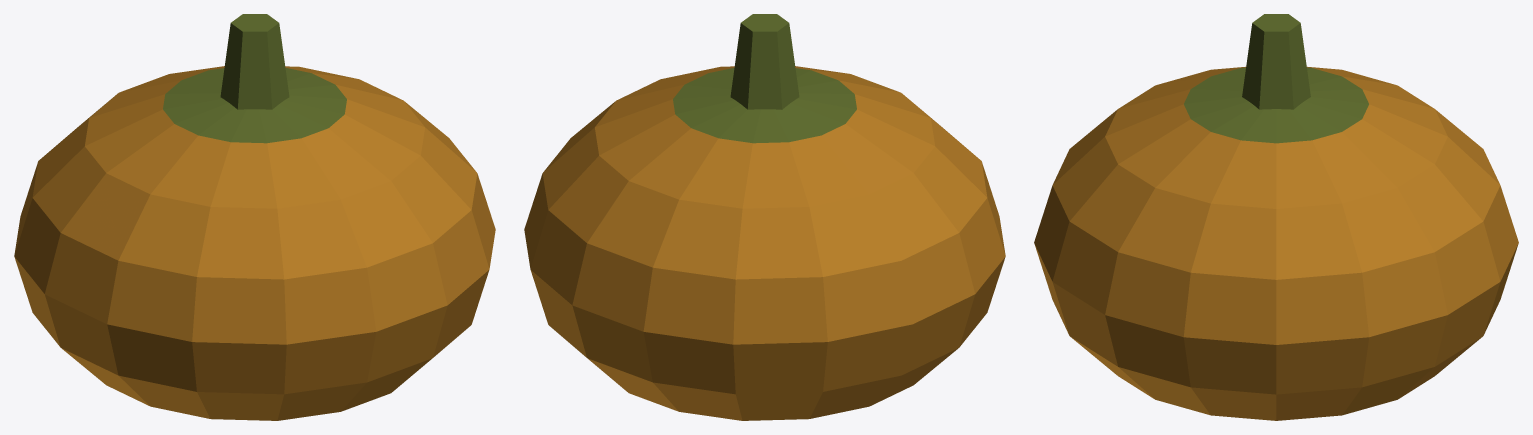
Rendered from calabaza.obj.
The picture shows the model from 3 angles, left to right: view 1: azimuth 30°, elevation 25°; view 2: azimuth 150°, elevation 25°; view 3: azimuth 270°, elevation 25°; orthographic projection.
Visible parts, largest first — view 1: calabaza; view 2: calabaza; view 3: calabaza.
Part boxes in pixels (x1,y1,x2,y2): calabaza: (14,14,495,420); calabaza: (524,14,1005,420); calabaza: (1034,14,1518,420).
Bounding box in the file's own units: 0.22 × 0.185 × 0.22.
Materials: 1 (1 with a texture image).
